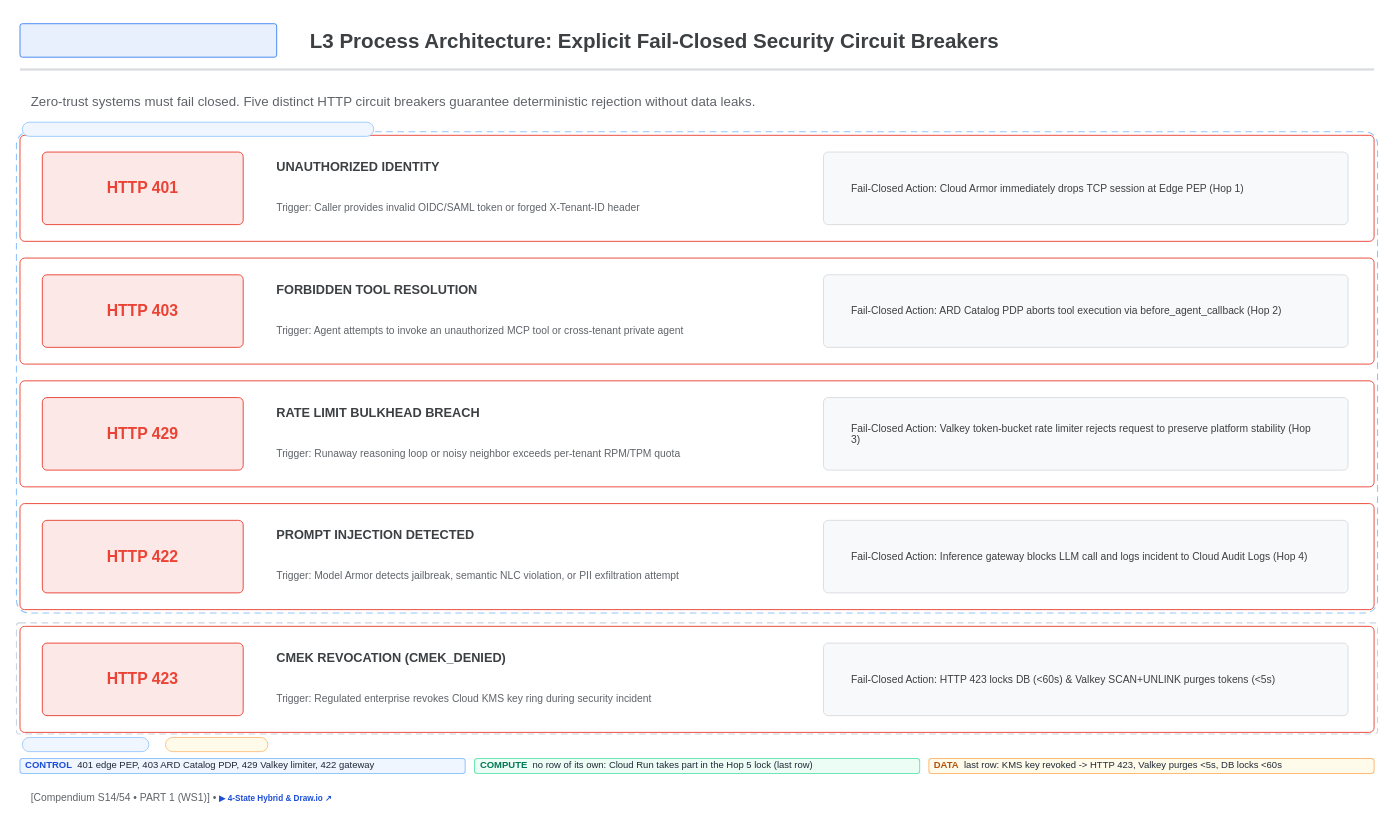
This 1394x830 diagram has some shape labels left out. The box of each missing label's shape, as (x1, y1, x2, y2) in pixels:
CONTROL · Hops 1–4: identity, tool policy, rate limit, prompt screen: (21, 121, 374, 136)
CONTROL · key revoke: (21, 737, 149, 752)
DATA · store lock: (165, 737, 268, 752)
PART 1 • CIRCUIT BREAKERS: (19, 23, 277, 57)
